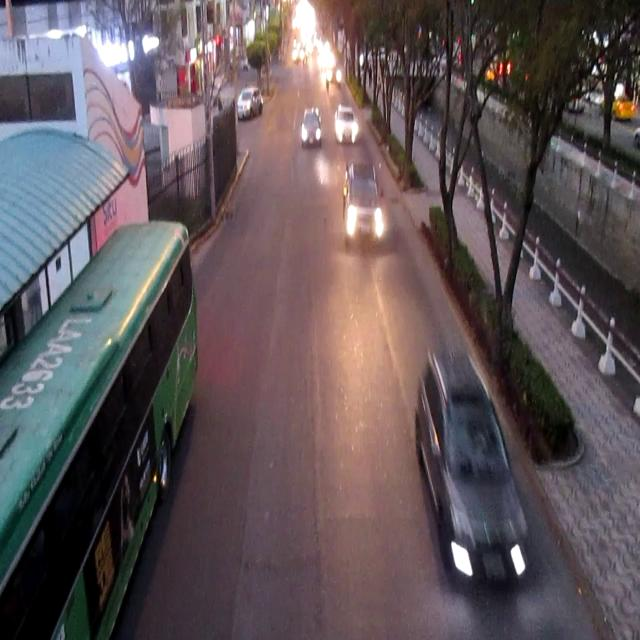BUS: (3, 226, 201, 640)
SUV: (415, 342, 530, 570), (345, 167, 386, 247), (238, 89, 263, 119)
